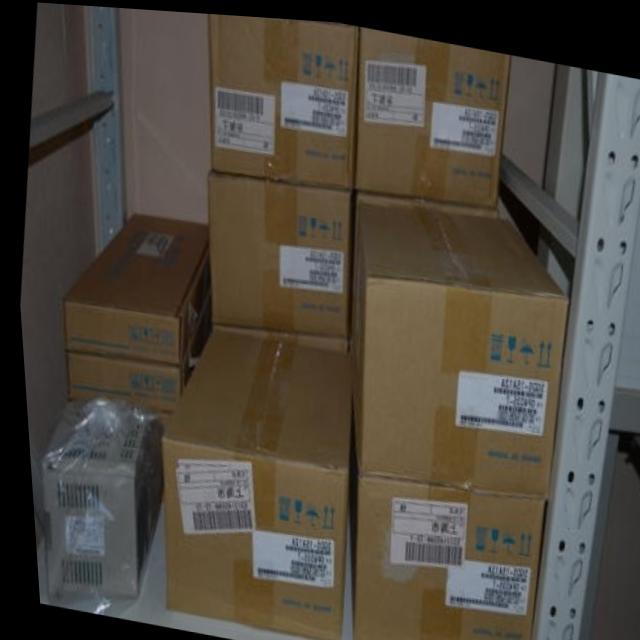box: (344, 195, 564, 493), (155, 323, 347, 638), (344, 466, 537, 640), (352, 21, 513, 199), (208, 11, 358, 186), (204, 165, 350, 333), (59, 207, 204, 360), (63, 297, 205, 410), (349, 185, 495, 255), (206, 319, 341, 346)
